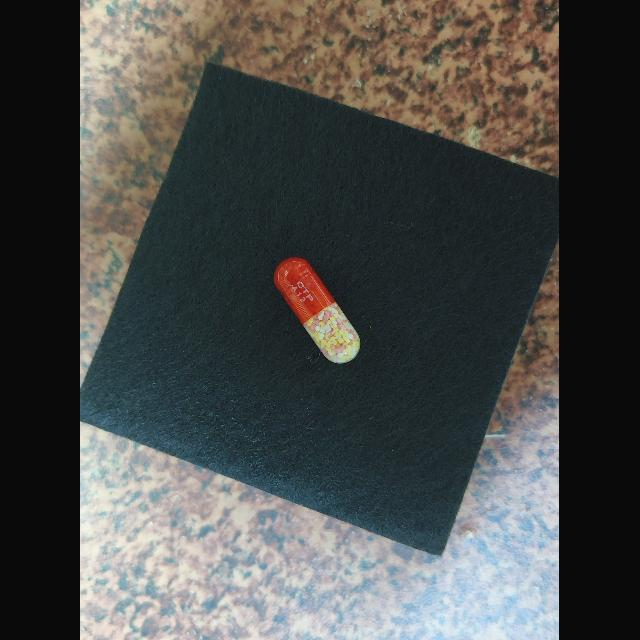Intact Capsule: (273, 257, 361, 364)
